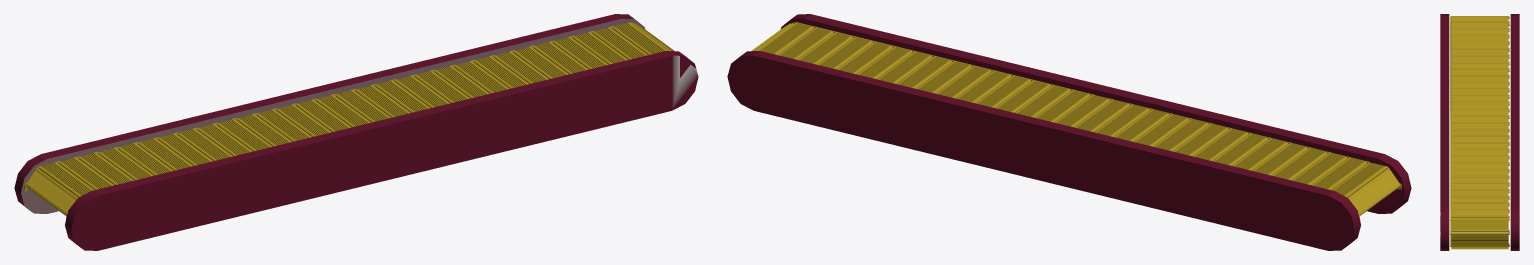
File: ecalator1.fbx
3 renders of one model, left to right at view 1: azimuth 30°, elevation 25°; view 2: azimuth 150°, elevation 25°; view 3: azimuth 270°, elevation 25°, orthographic. The views are drawn at different scales.
Parts seen in each view (by area): view 1: Cylinder084; view 2: Cylinder084; view 3: Cylinder084.
Part boxes in pixels (box(x1,y1,x2,y2)): Cylinder084: box(14, 14, 698, 250); Cylinder084: box(727, 14, 1411, 250); Cylinder084: box(1440, 14, 1519, 250).
Bounding box in the file's own units: 824 × 129 × 69.26.
1 material, 1 textured.
